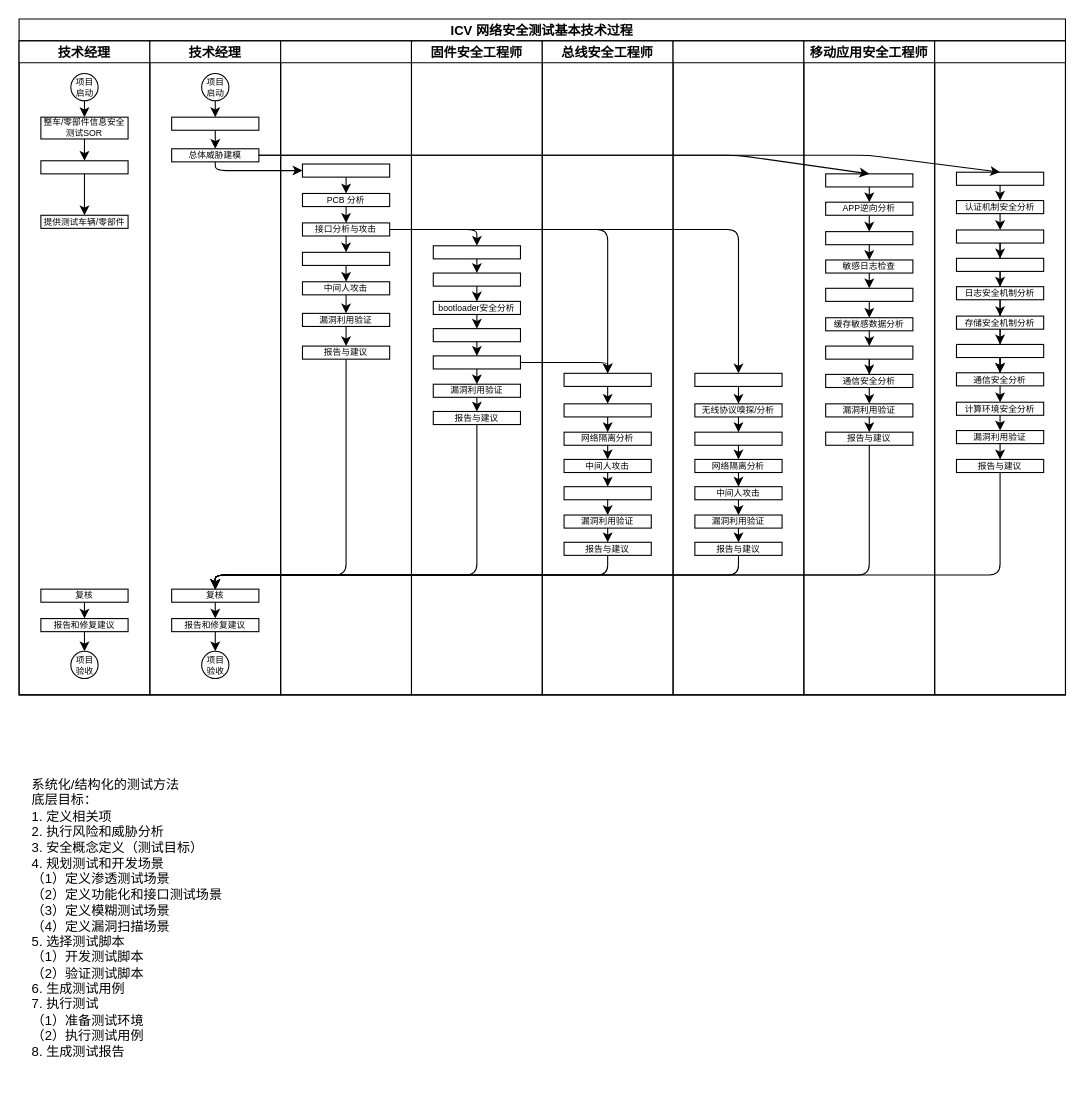
The diagram is 1085 pixels wide and 1095 high, and some of its shapes have lost their labels. The shapes that lost their labels are listed below. From the top down, each one's box as (x1, y1, x2, y2) in pixels, then its label:
(171, 116, 259, 130): 车型技术分析
(40, 160, 128, 174): 提供相关技术资料
(301, 163, 390, 177): 硬件攻击面分析
(825, 173, 913, 187): 移动应用攻击面分析
(955, 171, 1044, 185): TSP攻击面分析
(432, 245, 520, 259): 固件提取
(825, 231, 913, 245): 硬编码敏感值发现
(955, 229, 1044, 243): 会话机制安全分析
(301, 251, 390, 265): 侧信道攻击分析
(955, 257, 1044, 271): 交互安全机制分析
(432, 272, 520, 286): 固件攻击面分析
(825, 287, 913, 301): 会话机制分析
(432, 328, 520, 342): kernel 安全分析
(825, 345, 913, 359): 数据存储安全分析
(955, 343, 1044, 358): 组件安全机制分析
(280, 40, 411, 695): 硬件安全工程师
(432, 355, 520, 369): 应用安全分析
(563, 372, 651, 386): 总线协议分析
(672, 40, 804, 695): 无线网络安全工程师
(694, 372, 782, 386): 载波分析
(934, 40, 1065, 695): 云服务安全工程师
(563, 403, 651, 417): 通信矩阵逆向
(694, 431, 782, 445): 数据包解析
(563, 486, 651, 500): Fuzz 分析
